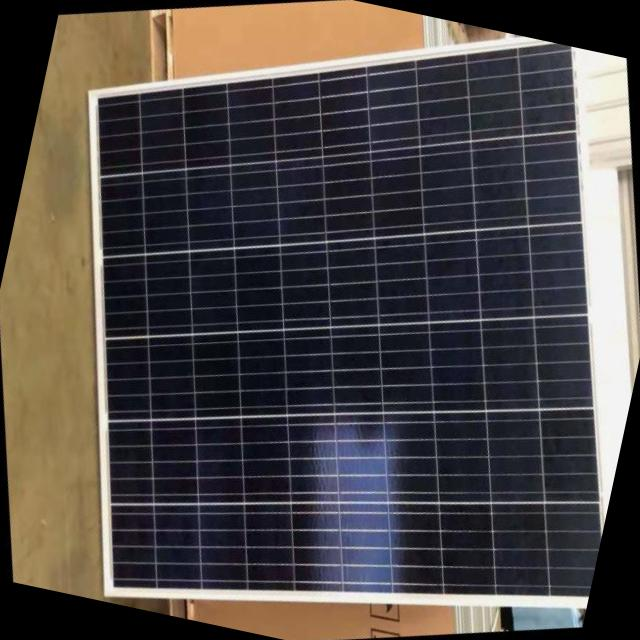no faulty: (100, 46, 593, 608)
